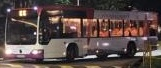bus: (16, 8, 30, 17)
